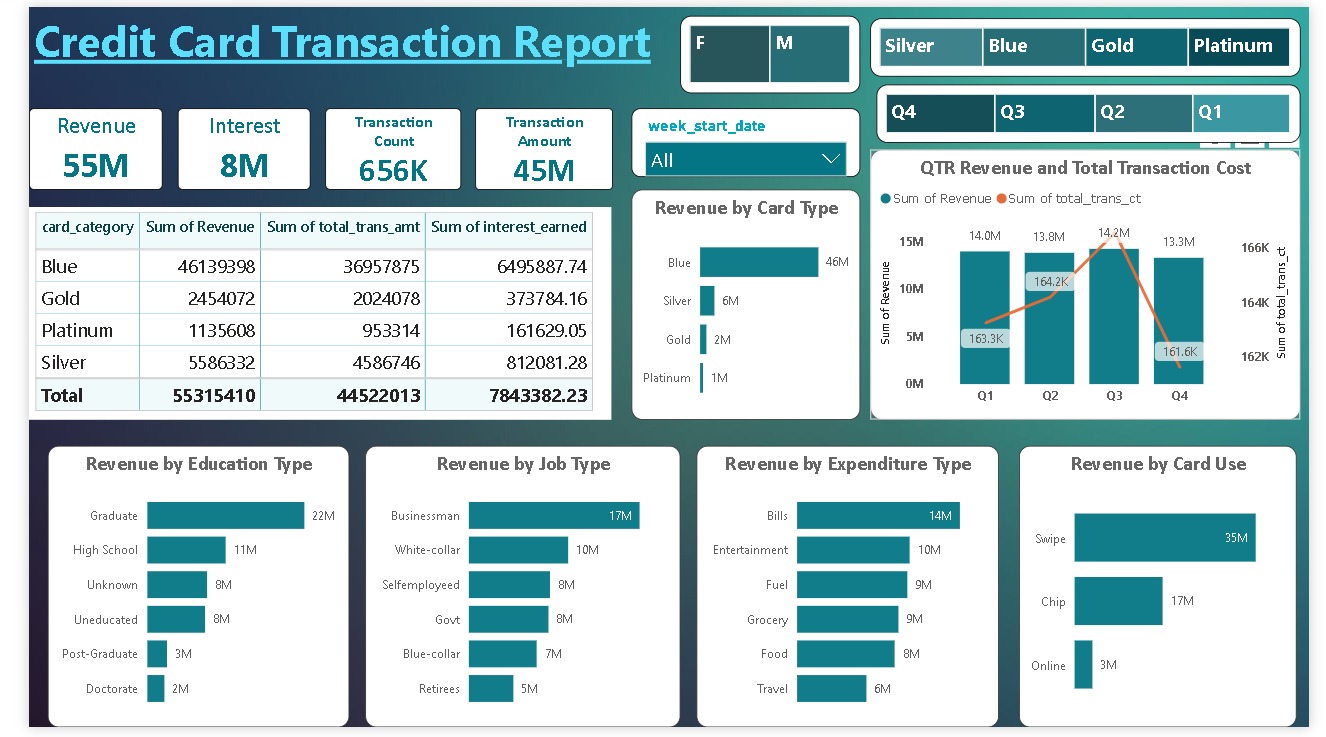

This screenshot's page, from the dashboard's own definition file:
{"tool":"powerbi","page":{"name":"CC Transaction","canvas":[1280,720],"ordinal":0},"visuals":[{"type":"textbox","box":[0,0,651.2,77.5],"z":0},{"type":"lineStackedColumnComboChart","title":"QTR Revenue and Total Transaction Cost","fields":{"Y":["Sum(public cc_detail.Revenue)"],"Category":["public cc_detail.qtr"],"Y2":["Sum(public cc_detail.total_trans_ct)"]},"box":[841.2,142.5,430,270],"z":1000},{"type":"barChart","title":"Revenue by Job Type","fields":{"Y":["Sum(public cc_detail.Revenue)"],"Category":["public cust_detail.customer_job"]},"box":[336.2,438.8,315,281.2],"z":2000},{"type":"barChart","title":"Revenue by Education Type","fields":{"Y":["Sum(public cc_detail.Revenue)"],"Category":["public cust_detail.education_level"]},"box":[18.8,438.8,301.2,281.2],"z":3000},{"type":"barChart","title":"Revenue by Expenditure Type","fields":{"Y":["Sum(public cc_detail.Revenue)"],"Category":["public cc_detail.exp_type"]},"box":[667.5,438.8,302.5,281.2],"z":4000},{"type":"barChart","title":"Revenue by Card Type","fields":{"Y":["Sum(public cc_detail.Revenue)"],"Category":["public cc_detail.card_category"]},"box":[602.8,182.5,229.1,230.3],"z":5000},{"type":"barChart","title":"Revenue by Card Use","fields":{"Y":["Sum(public cc_detail.Revenue)"],"Category":["public cc_detail.use_chip"]},"box":[990,438.8,277.5,281.2],"z":6000},{"type":"tableEx","fields":{"Values":["public cc_detail.card_category","Sum(public cc_detail.Revenue)","Sum(public cc_detail.total_trans_amt)","Sum(public cc_detail.interest_earned)"]},"box":[0,200,582.5,212.5],"z":7000},{"type":"card","title":"Revenue","fields":{"Values":["Sum(public cc_detail.Revenue)"]},"box":[0,101.2,133.8,81.2],"z":8000},{"type":"card","title":"Transaction Count","fields":{"Values":["Sum(public cc_detail.total_trans_ct)"]},"box":[296.2,101.2,136.2,81.2],"z":9000},{"type":"card","title":"Transaction Amount","fields":{"Values":["Sum(public cc_detail.total_trans_amt)"]},"box":[446.2,101.2,137.5,81.2],"z":10000},{"type":"card","title":"Total Interest","fields":{"Values":["Sum(public cc_detail.interest_earned)"]},"box":[148.8,101.2,132.5,81.2],"z":11000},{"type":"treemap","fields":{"Details":["public cc_detail.qtr"],"Values":["Avg(public cc_detail.client_num)"]},"box":[847.5,77.5,423.8,58.8],"z":12000},{"type":"treemap","fields":{"Values":["Avg(public cc_detail.client_num)"],"Details":["public cust_detail.gender"]},"box":[651.2,8.8,180,77.5],"z":13000},{"type":"treemap","fields":{"Values":["Avg(public cc_detail.client_num)"],"Details":["public cc_detail.card_category"]},"box":[841.2,11.2,430,58.8],"z":14000},{"type":"slicer","fields":{"Values":["public cc_detail.week_start_date"]},"box":[598.8,100,232.5,72.5],"z":15000}]}

Visuals, with their boxes in screenshot pixels (x1, y1, x2, y2), scaled from the page's 1280x720 canvas onto the 1326x737 screenshot:
textbox: Rect(0, 0, 675, 79)
"QTR Revenue and Total Transaction Cost" lineStackedColumnComboChart: Rect(871, 146, 1317, 422)
"Revenue by Job Type" barChart: Rect(348, 449, 675, 736)
"Revenue by Education Type" barChart: Rect(19, 449, 332, 736)
"Revenue by Expenditure Type" barChart: Rect(691, 449, 1005, 736)
"Revenue by Card Type" barChart: Rect(624, 187, 862, 423)
"Revenue by Card Use" barChart: Rect(1026, 449, 1313, 736)
tableEx - public cc_detail.card_category x Sum(public cc_detail.Revenue): Rect(0, 205, 603, 422)
"Revenue" card: Rect(0, 104, 139, 187)
"Transaction Count" card: Rect(307, 104, 448, 187)
"Transaction Amount" card: Rect(462, 104, 605, 187)
"Total Interest" card: Rect(154, 104, 291, 187)
treemap - public cc_detail.qtr x Avg(public cc_detail.client_num): Rect(878, 79, 1317, 140)
treemap - Avg(public cc_detail.client_num) x public cust_detail.gender: Rect(675, 9, 861, 88)
treemap - Avg(public cc_detail.client_num) x public cc_detail.card_category: Rect(871, 11, 1317, 72)
slicer - public cc_detail.week_start_date: Rect(620, 102, 861, 177)
